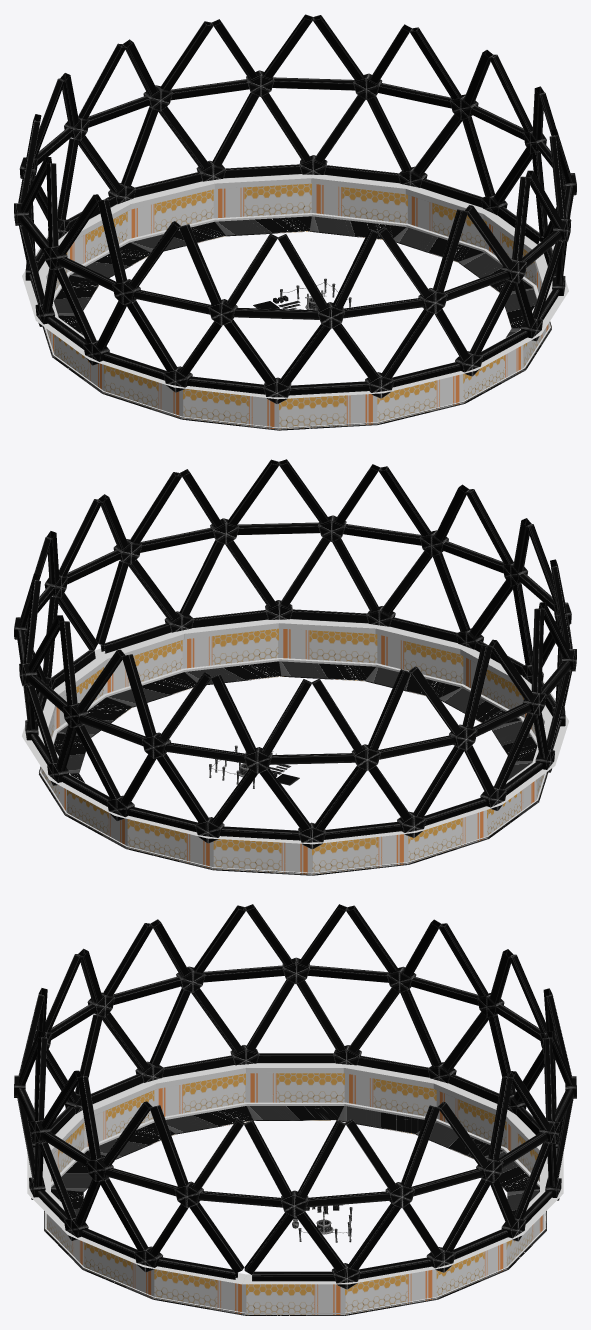
The model's file is Decoracion_Prueba_FBX.fbx.
3 renders of one model, top to bottom at view 1: azimuth 30°, elevation 25°; view 2: azimuth 150°, elevation 25°; view 3: azimuth 270°, elevation 25°, orthographic.
Parts seen in each view (by area): view 1: pCylinder68, polySurface11, pCylinder84, pCylinder67, polySurface105, polySurface103, polySurface104, polySurface112, polySurface106, polySurface113, polySurface82, polySurface96 (+23 smaller); view 2: pCylinder68, polySurface11, pCylinder84, pCylinder67, polySurface98, polySurface100, polySurface99, polySurface107, polySurface93, polySurface113, polySurface90, polySurface92 (+23 smaller); view 3: pCylinder68, pCylinder84, polySurface11, pCylinder67, polySurface109, polySurface110, polySurface108, polySurface111, polySurface102, polySurface101, polySurface94, polySurface86 (+22 smaller).
Boxes of the visible parts, bbox=[...] form: pCylinder68: bbox=[46, 183, 549, 429]; polySurface11: bbox=[42, 216, 551, 430]; pCylinder84: bbox=[22, 174, 568, 399]; pCylinder67: bbox=[43, 213, 551, 428]; polySurface105: bbox=[333, 227, 430, 318]; polySurface103: bbox=[129, 221, 221, 314]; polySurface104: bbox=[226, 233, 327, 319]; polySurface112: bbox=[263, 14, 364, 90]; polySurface106: bbox=[433, 205, 512, 301]; polySurface113: bbox=[160, 19, 257, 100]; polySurface82: bbox=[121, 106, 209, 197]; polySurface96: bbox=[314, 95, 411, 183]; pCylinder68: bbox=[41, 628, 544, 874]; polySurface11: bbox=[39, 661, 548, 875]; pCylinder84: bbox=[22, 619, 568, 844]; pCylinder67: bbox=[39, 658, 547, 873]; polySurface98: bbox=[159, 672, 255, 763]; polySurface100: bbox=[368, 666, 460, 759]; polySurface99: bbox=[262, 678, 362, 764]; polySurface107: bbox=[228, 459, 328, 535]; polySurface93: bbox=[95, 559, 177, 653]; polySurface113: bbox=[77, 649, 155, 745]; polySurface90: bbox=[382, 551, 470, 643]; polySurface92: bbox=[180, 540, 276, 628]; pCylinder68: bbox=[46, 1073, 544, 1314]; pCylinder84: bbox=[27, 1063, 563, 1284]; polySurface11: bbox=[44, 1106, 546, 1315]; pCylinder67: bbox=[44, 1102, 546, 1313]; polySurface109: bbox=[192, 1118, 291, 1207]; polySurface110: bbox=[298, 1119, 397, 1207]; polySurface108: bbox=[102, 1101, 188, 1196]; polySurface111: bbox=[401, 1101, 487, 1196]; polySurface102: bbox=[193, 904, 292, 982]; polySurface101: bbox=[299, 904, 398, 982]; polySurface94: bbox=[244, 1211, 344, 1281]; polySurface86: bbox=[246, 979, 344, 1063].
Size of the model in its own units: 28.55 by 11.26 by 28.55.
1 material, 1 textured.
